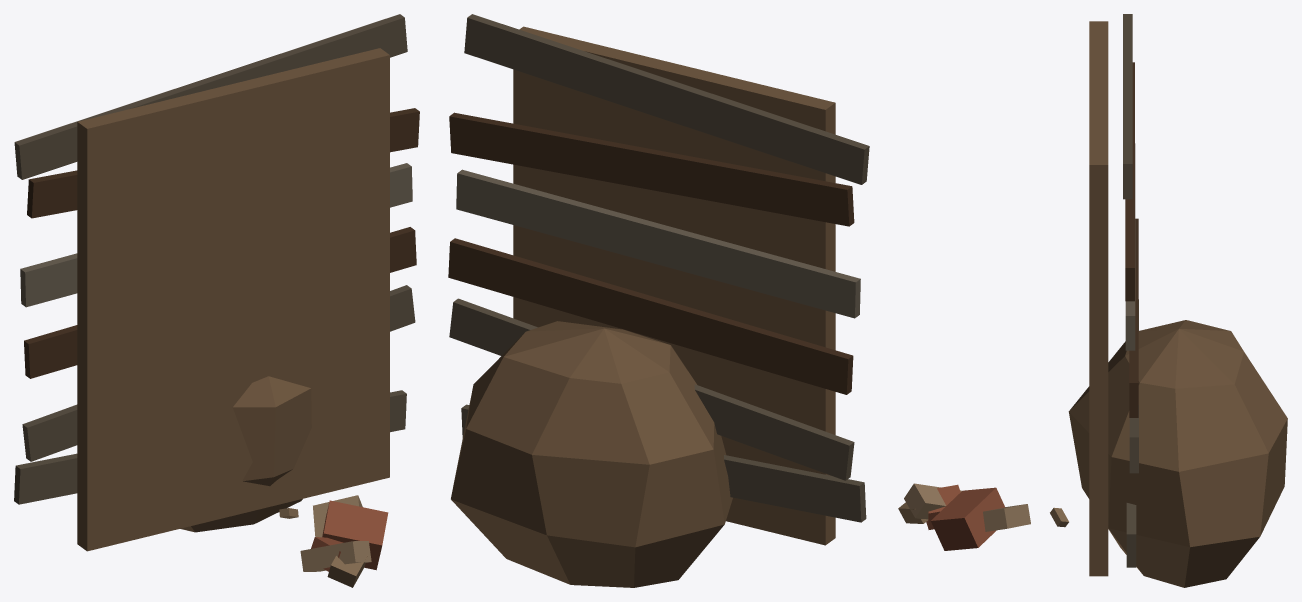
File: TownDoorPlug.glb
3 views of the same model, side by side, from view 1: azimuth 30°, elevation 25°; view 2: azimuth 150°, elevation 25°; view 3: azimuth 270°, elevation 25° (orthographic). The views are drawn at different scales.
Parts seen in each view (by area): view 1: TownDoorPlug.001; view 2: TownDoorPlug.001; view 3: TownDoorPlug.001.
Part boxes in pixels (x1=…): TownDoorPlug.001: x1=14, y1=14, x2=419, y2=587; TownDoorPlug.001: x1=448, y1=14, x2=869, y2=587; TownDoorPlug.001: x1=898, y1=14, x2=1287, y2=587.
Bounding box in the file's own units: 2.39 × 2.8 × 2.06.
